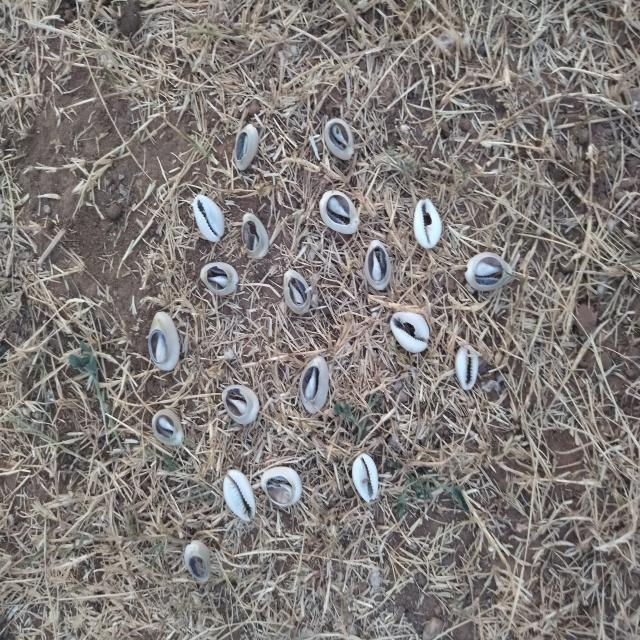facedown: (145, 309, 182, 375), (296, 354, 332, 416), (462, 252, 514, 293), (317, 188, 361, 236), (260, 466, 304, 510), (219, 384, 261, 426), (362, 240, 392, 294), (323, 116, 356, 164), (199, 260, 240, 298), (151, 403, 184, 449), (240, 212, 270, 262), (232, 121, 260, 174), (282, 268, 312, 317), (184, 537, 214, 586)
faceup: (388, 308, 433, 356), (222, 467, 258, 523), (191, 191, 227, 246), (349, 453, 383, 503), (412, 196, 442, 252), (452, 344, 482, 392)
